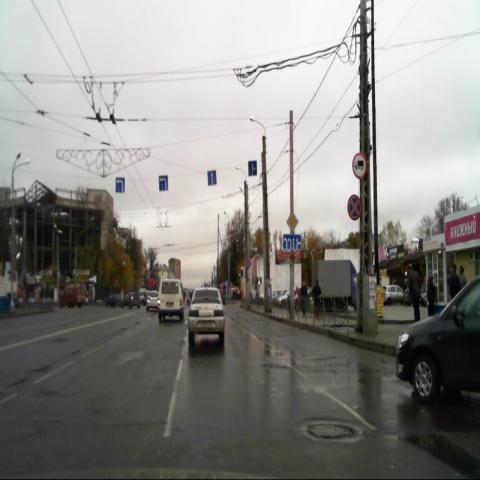2_1: (287, 212, 298, 233)
3_27: (347, 194, 362, 220)
3_4_1: (352, 152, 366, 179)
5_15_2: (158, 174, 168, 190), (207, 169, 216, 186), (248, 160, 257, 176), (116, 176, 125, 192)
